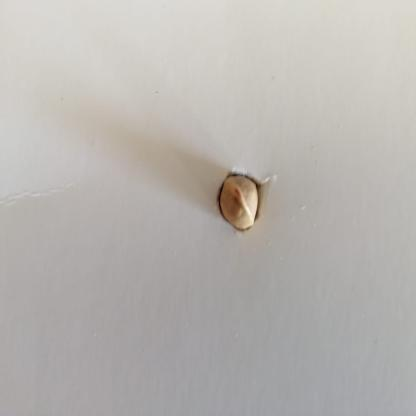pistachio: (219, 163, 268, 233)
